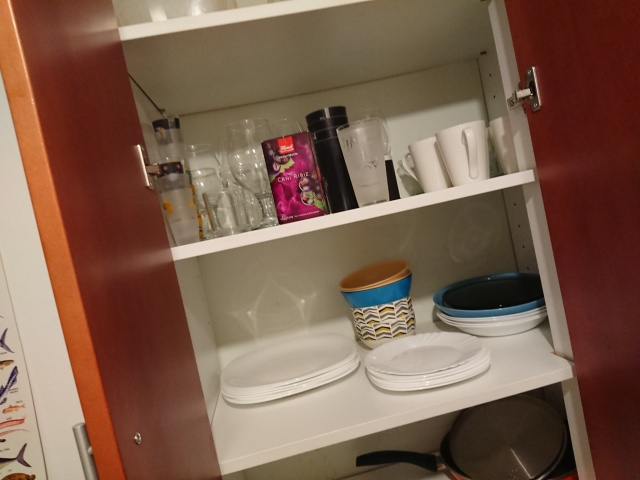Franck Black Currant Tea 60g: (259, 129, 333, 226)
